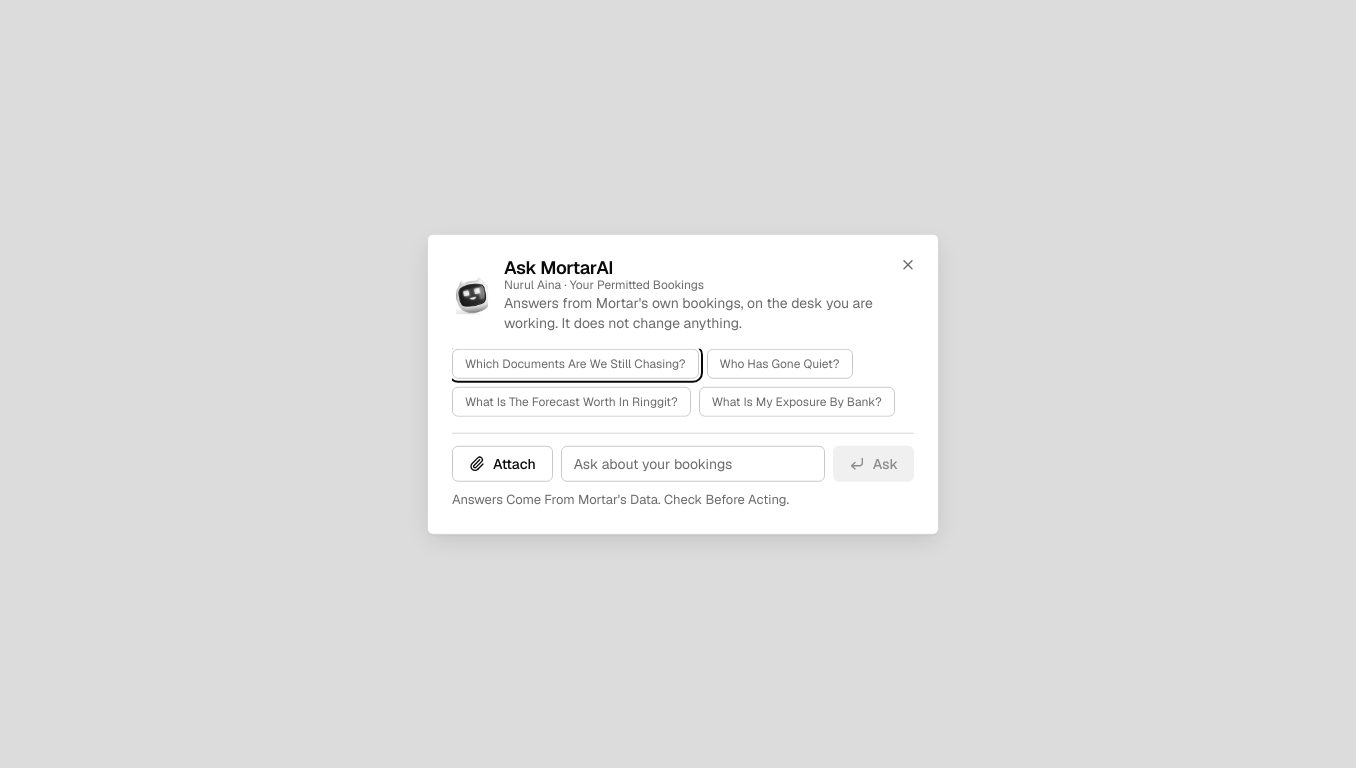
Test case: AskPanel › falls back to the scripted answer when the server has no model
Click the button "Which Documents Are We Still Chasing?" at (575,364), box x1=452 y1=349 x2=699 y2=379
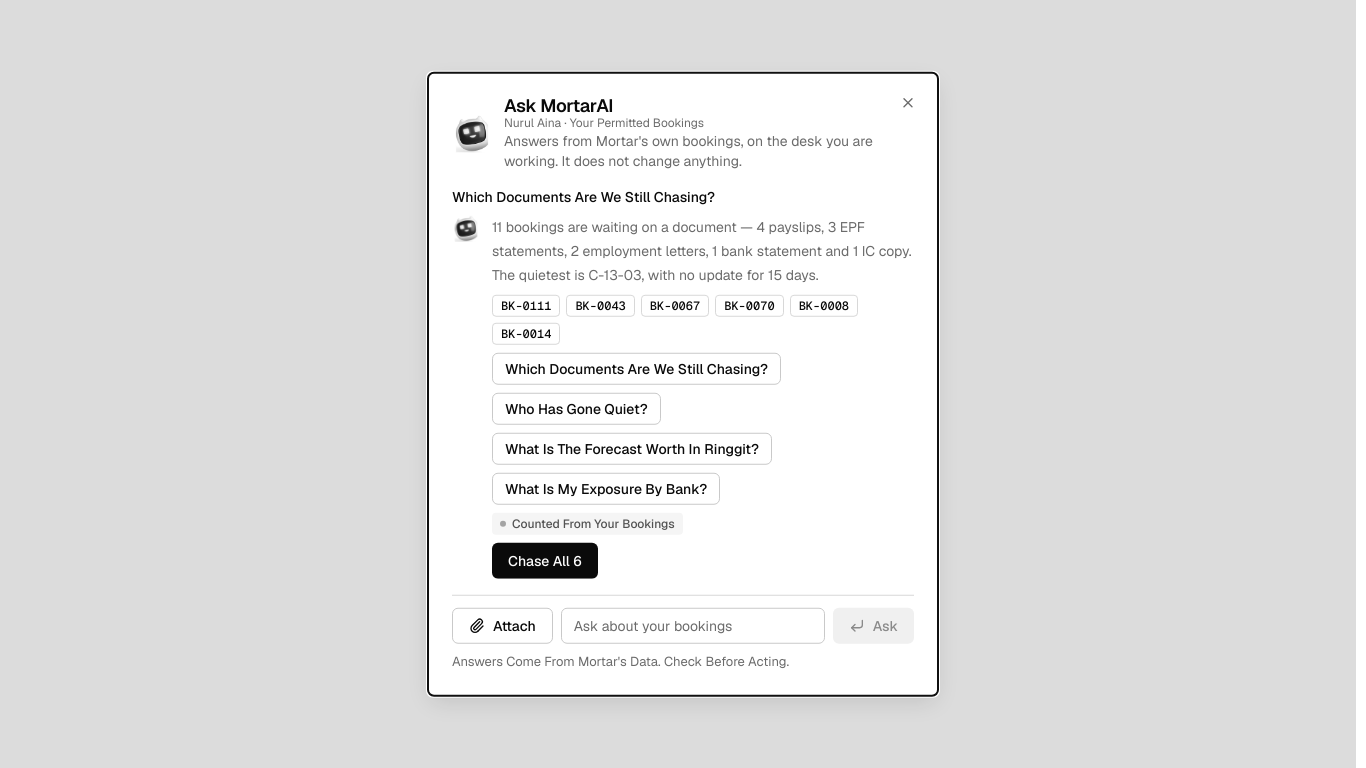
expect the text "are waiting on a document" is shown: met, box x1=492 y1=218 x2=912 y2=284
expect the text "Counted From Your Bookings" is shown: met, box x1=492 y1=513 x2=683 y2=535
expect the button "Chase All 6" is shown: met, box x1=492 y1=543 x2=598 y2=579
